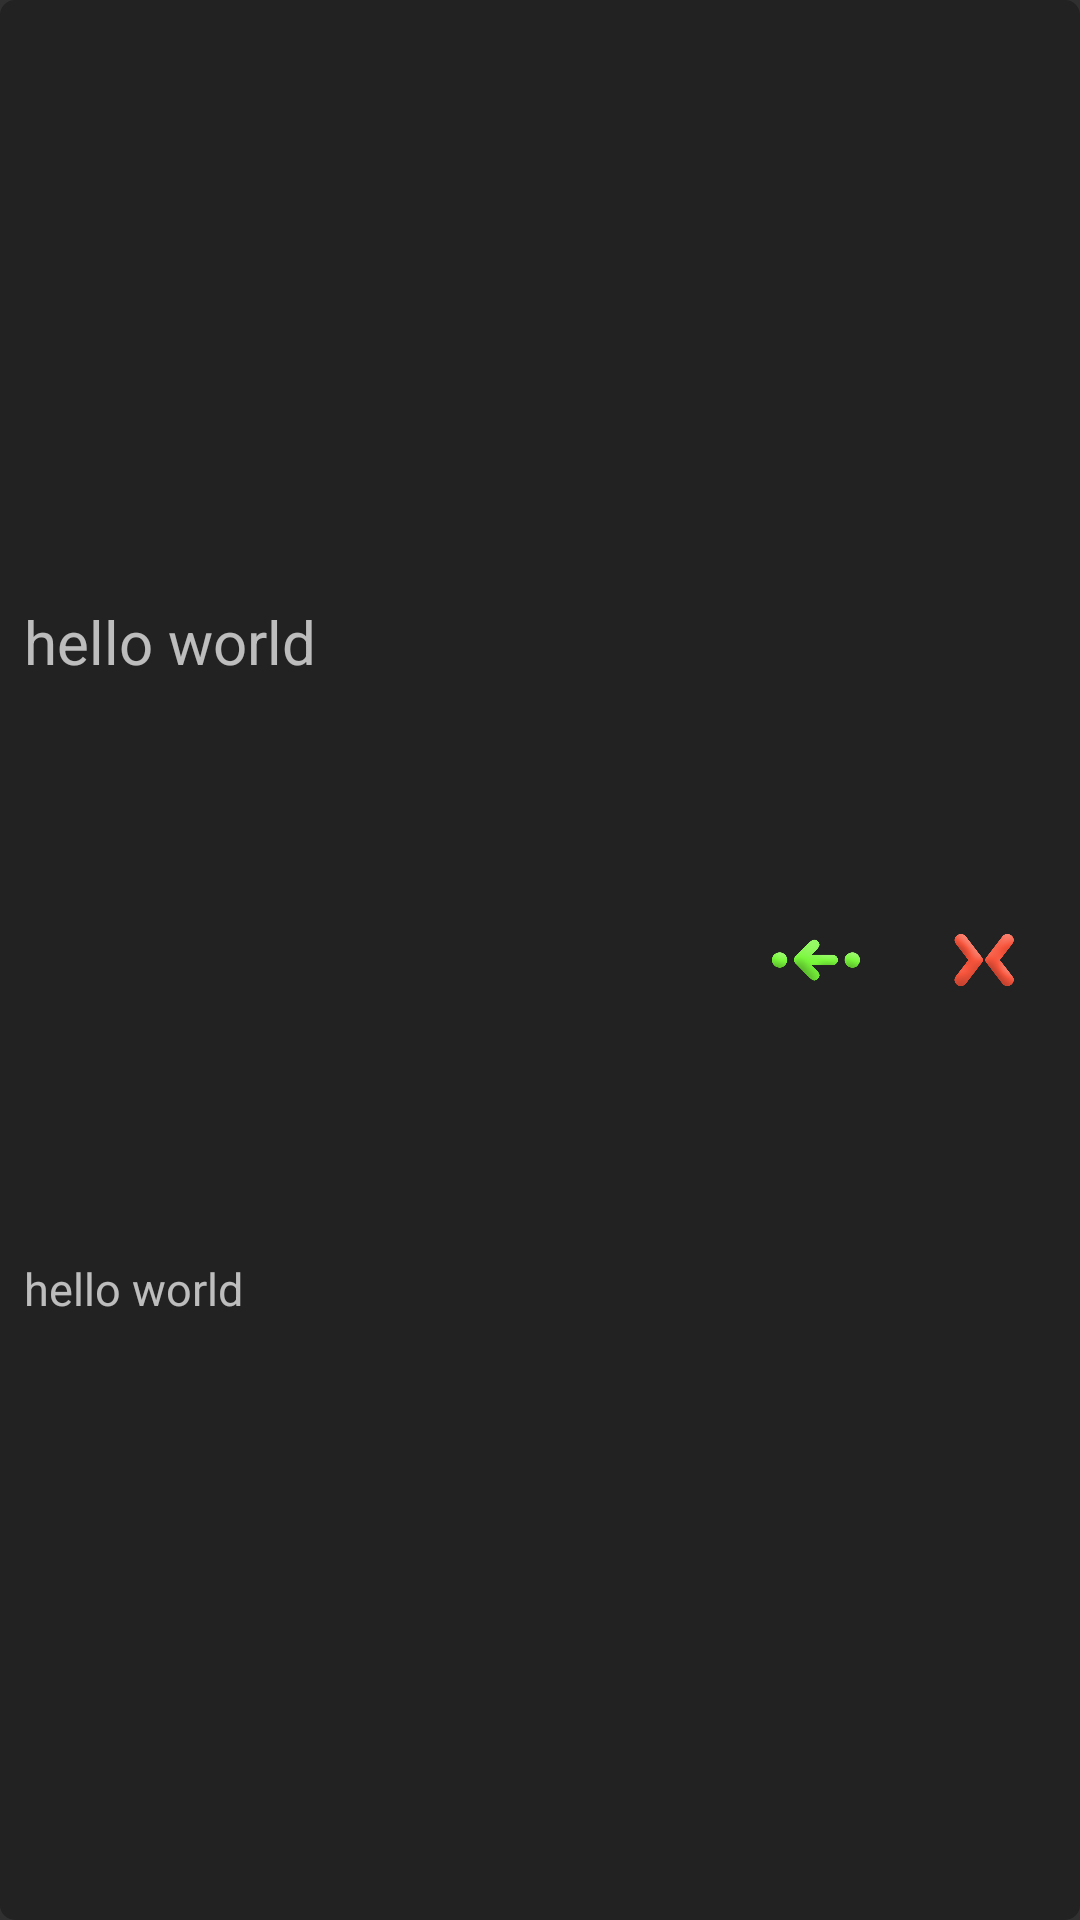

Locate icon controls on the screen. Image size 1080 x 1920, boxes as (x1, y1, x2, y2).
diss: (954, 934, 1014, 986)
